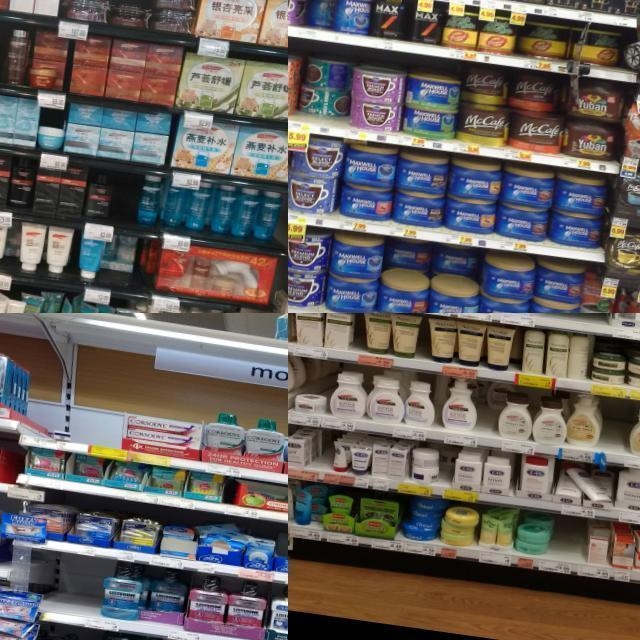Imprecise: (387, 243, 477, 310), (459, 63, 510, 145), (292, 56, 346, 130), (98, 228, 157, 290), (508, 71, 556, 147), (475, 372, 517, 439), (555, 464, 617, 504)
